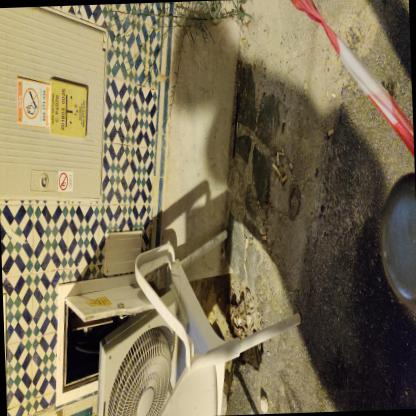Paper: (272, 162, 281, 177), (232, 360, 236, 373), (328, 127, 334, 135), (282, 173, 287, 182), (236, 121, 239, 134), (331, 90, 336, 97), (262, 234, 266, 241), (277, 151, 279, 165), (245, 237, 247, 249), (250, 307, 254, 312)
Plastic: (235, 297, 247, 325)
